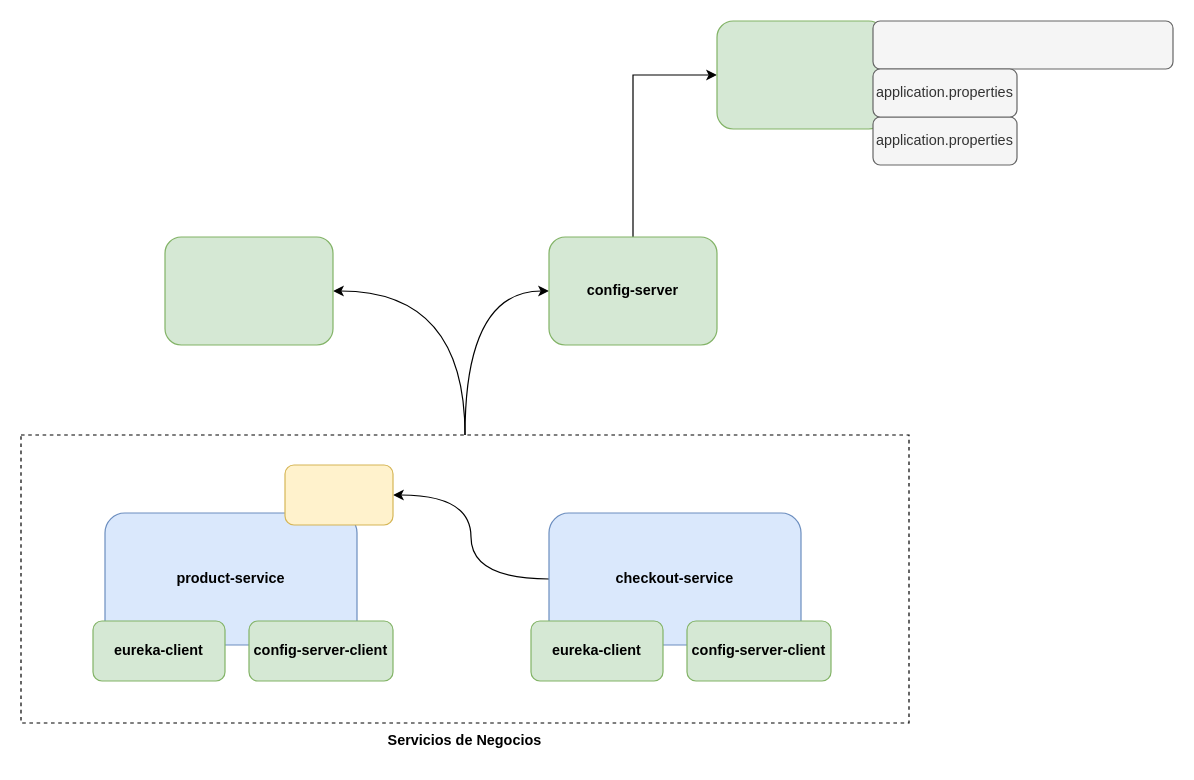
Some shapes in this 1194 by 780 pixel diagram are drawn without their labels. Each missing label, with the box of its shape:
API REST: (284, 464, 393, 525)
eureka-server: (164, 236, 333, 345)
Github: (716, 20, 885, 129)
{nombre-servicio}-{ambiente}.properties: (872, 20, 1173, 69)
